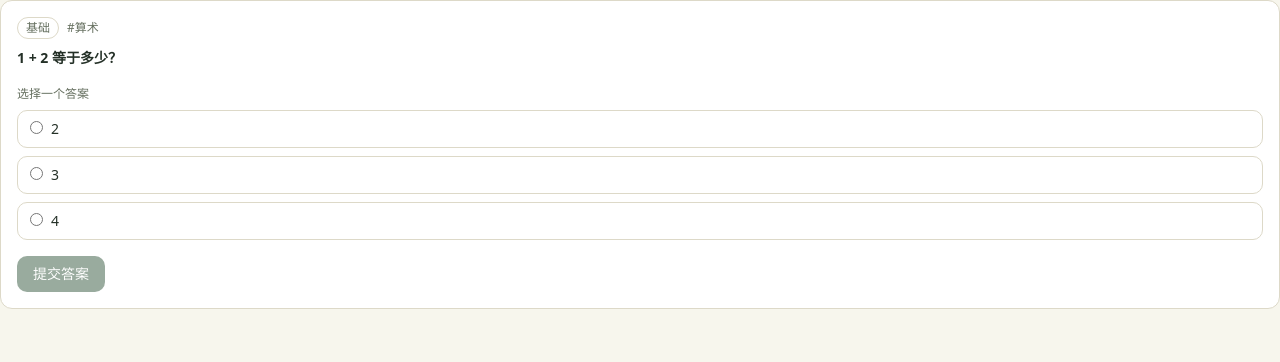
Scenario: ExerciseAssessment › surfaces an explicit conflict and does not retry silently
The width and height of the screenshot is (1280, 362).
Click the radio button labelled "2" at (36, 127), box [30,121,43,134]
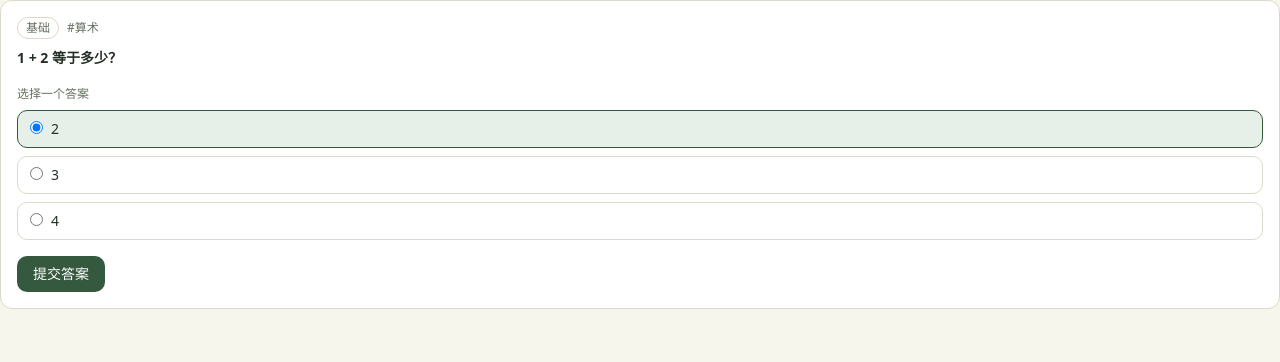
Click the button "提交答案" at (61, 274), box [17,256,105,292]
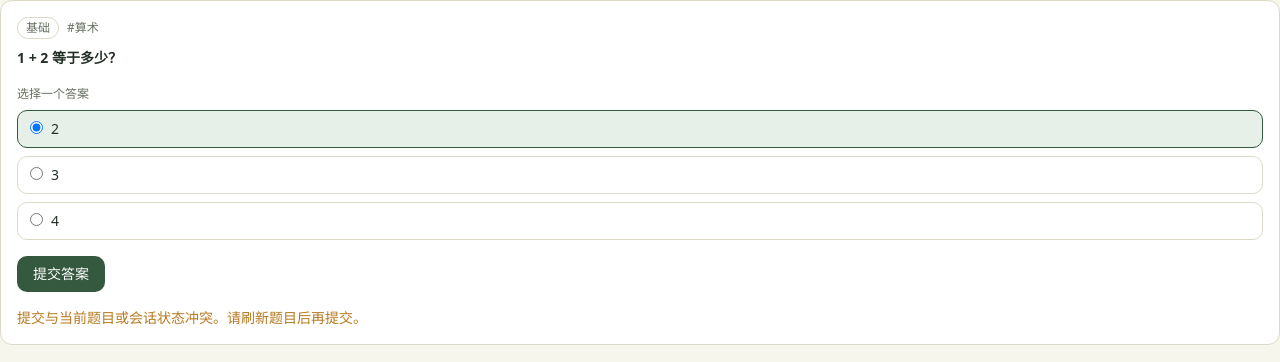
Result: the message shows "状态冲突" at [17,308,367,327]
